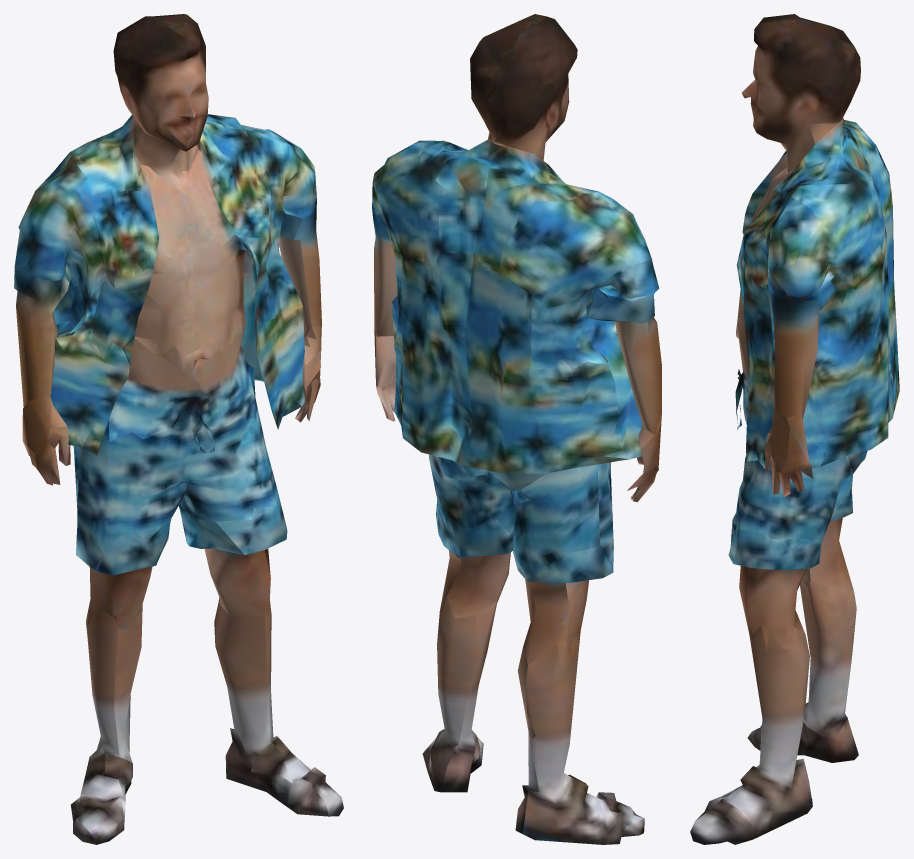
The model's file is bule_cowok_2_idle_lod2.glb.
3 renders of one model, left to right at view 1: azimuth 30°, elevation 25°; view 2: azimuth 150°, elevation 25°; view 3: azimuth 270°, elevation 25°, orthographic. The views are drawn at different scales.
Parts seen in each view (by area): view 1: tripo_node_f8d2a659; view 2: tripo_node_f8d2a659; view 3: tripo_node_f8d2a659.
Boxes of the visible parts, x1,y1,x2,y2 form: tripo_node_f8d2a659: (14,14,343,844); tripo_node_f8d2a659: (372,14,661,844); tripo_node_f8d2a659: (690,14,899,844).
Bounding box in the file's own units: 38.43 × 99.73 × 24.69.
Materials: 1 (1 with a texture image).
